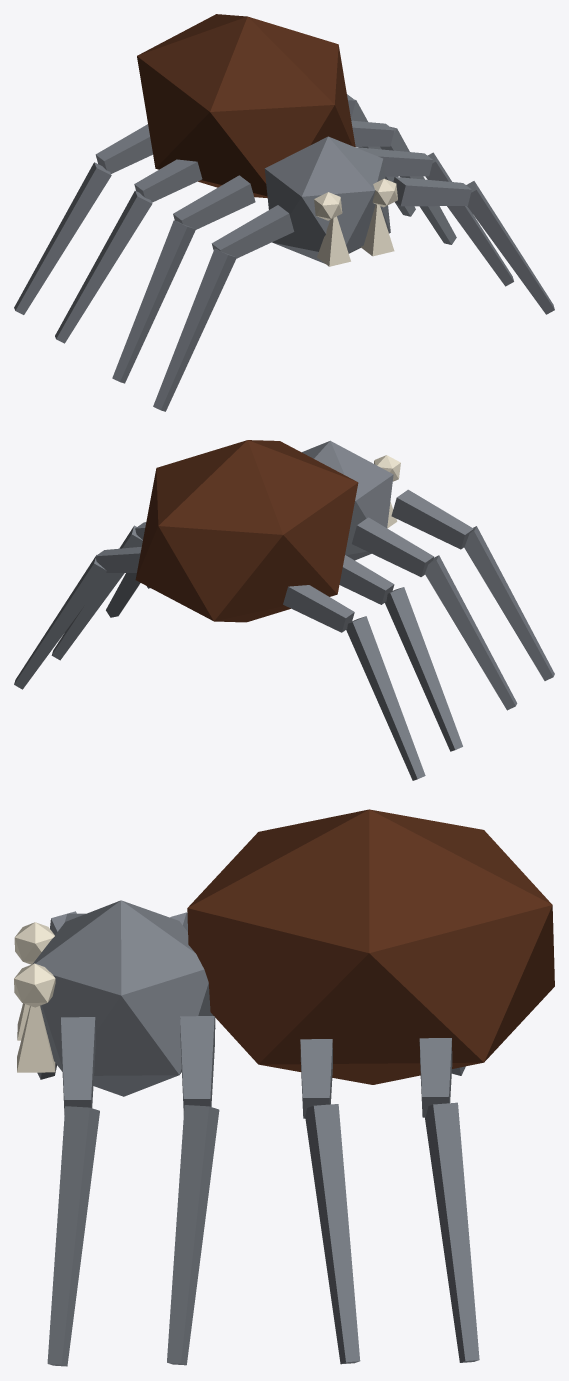
File: npcpose_spider_idle_05.glb
3 renders of one model, top to bottom at view 1: azimuth 30°, elevation 25°; view 2: azimuth 150°, elevation 25°; view 3: azimuth 270°, elevation 25°, orthographic. The views are drawn at different scales.
Parts seen in each view (by area): view 1: npcpose; view 2: npcpose; view 3: npcpose.
Part boxes in pixels (box(x1,y1,x2,y2)): npcpose: box(14, 14, 554, 411); npcpose: box(14, 440, 554, 780); npcpose: box(14, 809, 554, 1366).
Bounding box in the file's own units: 1.33 × 0.8375 × 0.9978.
